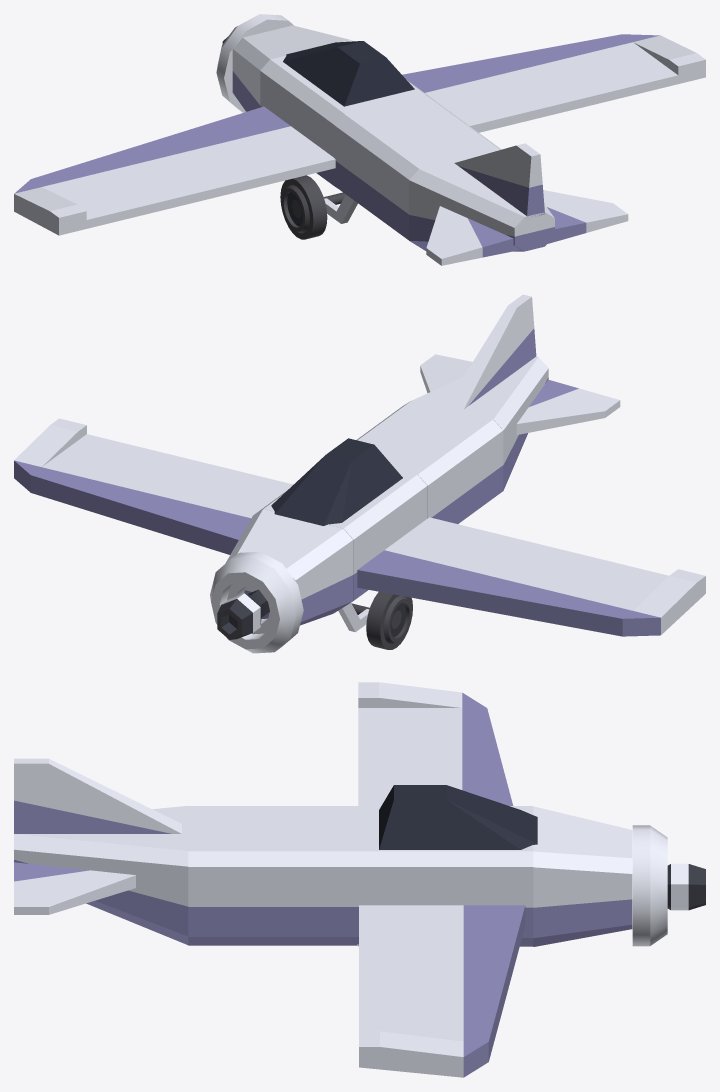
Rendered from MonoPlane.glb.
3 views of the same model, one above another, from view 1: azimuth 30°, elevation 25°; view 2: azimuth 150°, elevation 25°; view 3: azimuth 270°, elevation 25° (orthographic). The views are drawn at different scales.
Visible parts, largest first — view 1: mergedBlocks(Clone); view 2: mergedBlocks(Clone); view 3: mergedBlocks(Clone).
Boxes of the visible parts, box(x1,y1,x2,y2) form: mergedBlocks(Clone): box(14, 14, 705, 265); mergedBlocks(Clone): box(14, 294, 705, 653); mergedBlocks(Clone): box(14, 682, 705, 1077).
Bounding box in the file's own units: 4.95 × 1.49 × 3.97.
